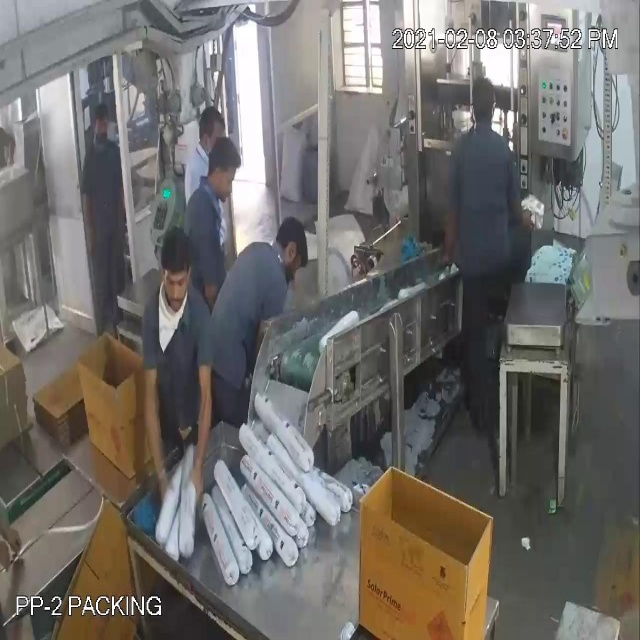Sin_guantes: (136, 343, 176, 505), (189, 343, 213, 504), (78, 184, 105, 267)
